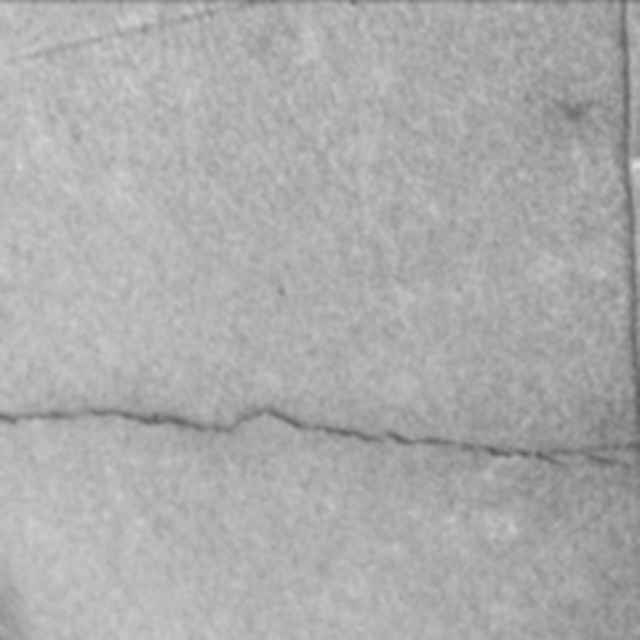SurfaceCrack: (1, 355, 639, 505), (594, 0, 640, 516)
